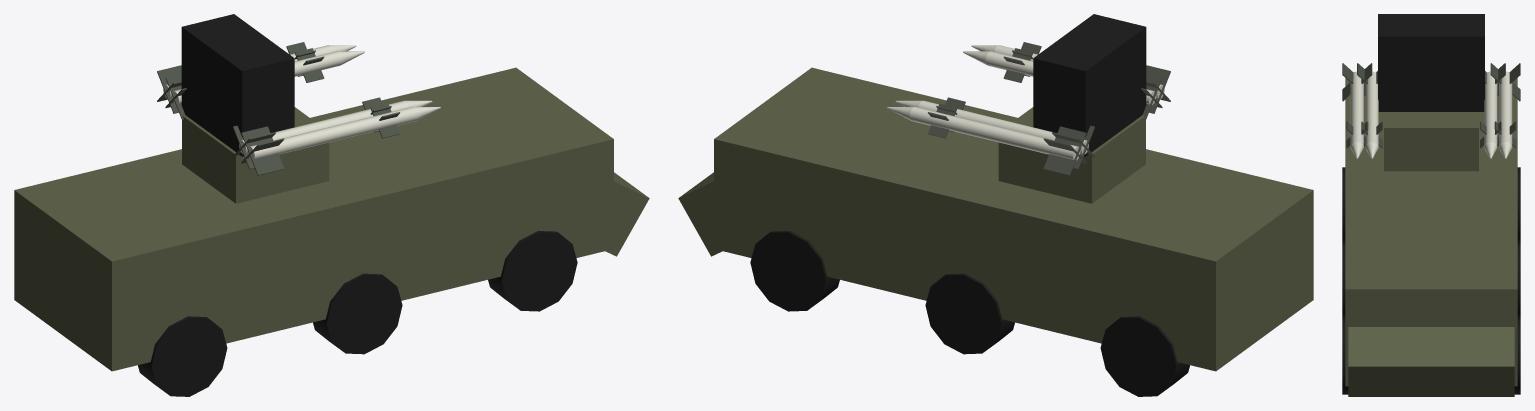
3 views of the same model, side by side, from view 1: azimuth 30°, elevation 25°; view 2: azimuth 150°, elevation 25°; view 3: azimuth 270°, elevation 25° (orthographic). The views are drawn at different scales.
Parts seen in each view (by area): view 1: Hull, Radar, TurretBase, Wheel2, Wheel6, Wheel4, Body4, Nose, Body3, Fin24, Body2; view 2: Hull, Radar, TurretBase, Wheel, Wheel5, Wheel3, Body, Nose, Body2, Fin, Body3; view 3: Hull, Nose, Radar, TurretBase, Body, Body4, Body2, Body3, Wheel5, Wheel6, Wheel, Wheel2 (+6 smaller).
Boxes of the visible parts, x1,y1,x2,y2 form: Hull: (14, 67, 613, 371); Radar: (181, 14, 294, 156); TurretBase: (182, 107, 329, 203); Wheel2: (138, 316, 227, 396); Wheel6: (488, 231, 577, 311); Wheel4: (313, 273, 402, 354); Body4: (247, 107, 418, 160); Nose: (605, 172, 649, 256); Body3: (239, 100, 409, 154); Fin24: (241, 126, 284, 175); Body2: (171, 51, 342, 104); Hull: (714, 67, 1313, 371); Radar: (1033, 14, 1146, 156); TurretBase: (998, 107, 1145, 203); Wheel: (1100, 316, 1189, 396); Wheel5: (750, 231, 839, 311); Wheel3: (925, 273, 1014, 354); Body: (909, 107, 1080, 160); Nose: (678, 172, 722, 256); Body2: (918, 100, 1088, 154); Fin: (1043, 126, 1086, 175); Body3: (985, 51, 1156, 104); Hull: (1345, 78, 1517, 386); Nose: (1348, 327, 1514, 396); Radar: (1378, 14, 1484, 111); TurretBase: (1384, 112, 1478, 171); Body: (1499, 71, 1512, 147); Body4: (1350, 71, 1363, 147); Body2: (1484, 71, 1497, 146); Body3: (1365, 71, 1378, 146); Wheel5: (1514, 318, 1520, 394); Wheel6: (1342, 318, 1348, 394); Wheel: (1517, 167, 1520, 242); Wheel2: (1342, 167, 1345, 242).
Bounding box in the file's own units: 9.24 × 4.8 × 3.01.
